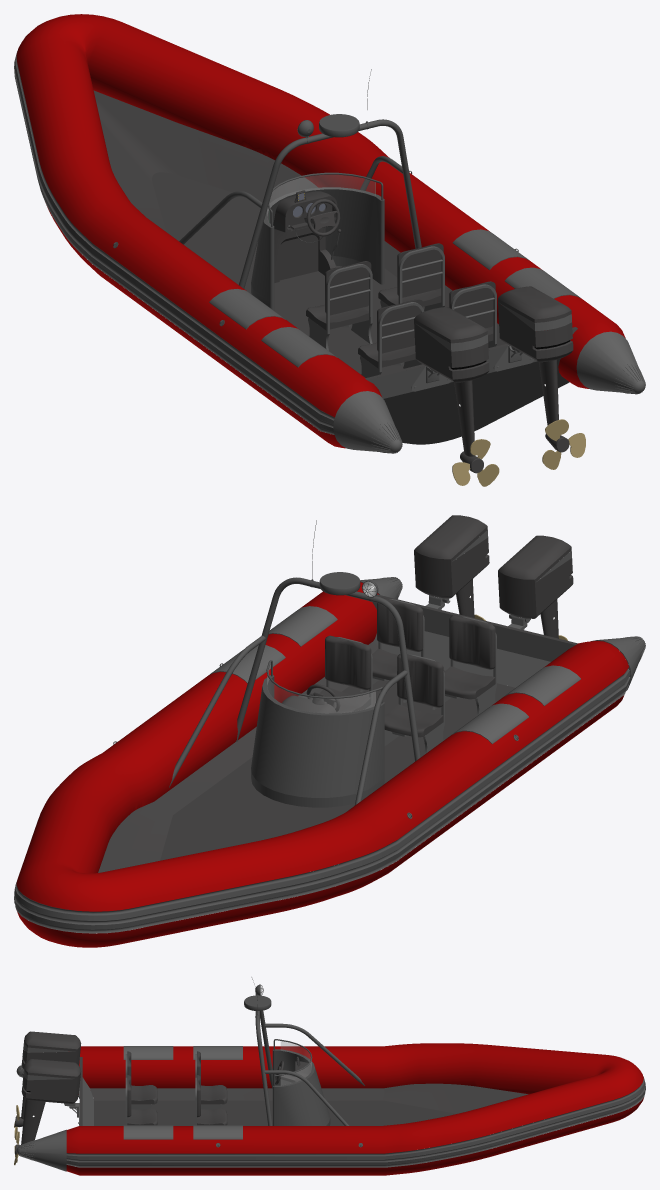
Rendered from rib.glb.
3 views of the same model, one above another, from view 1: azimuth 30°, elevation 25°; view 2: azimuth 150°, elevation 25°; view 3: azimuth 270°, elevation 25° (orthographic). The views are drawn at different scales.
Parts seen in each view (by area): view 1: Material3 (×4), Material2 (×2); view 2: Material3 (×3), Material2 (×2); view 3: Material3 (×3), Material2 (×2).
Part boxes in pixels (x1,y1,x2,y2): Material3 (×4): (16,14,645,486); Material2 (×2): (14,51,577,444); Material3 (×3): (16,515,645,947); Material2 (×2): (14,572,630,933); Material3 (×3): (15,977,643,1175); Material2 (×2): (66,984,645,1167).
Size of what is drawn, in the model's own units: 155 by 141 by 413.
